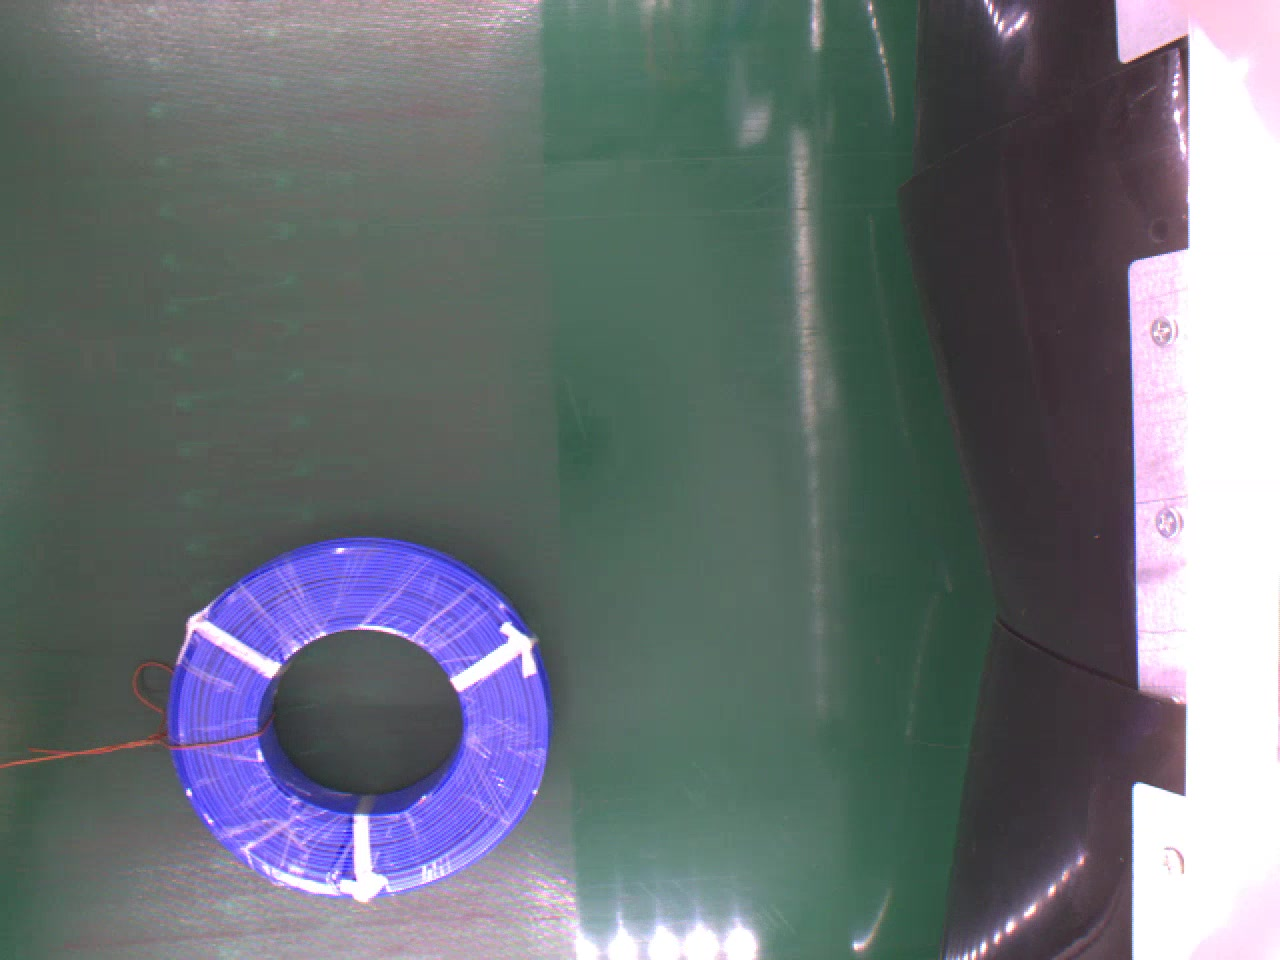blue: (162, 529, 546, 901)
